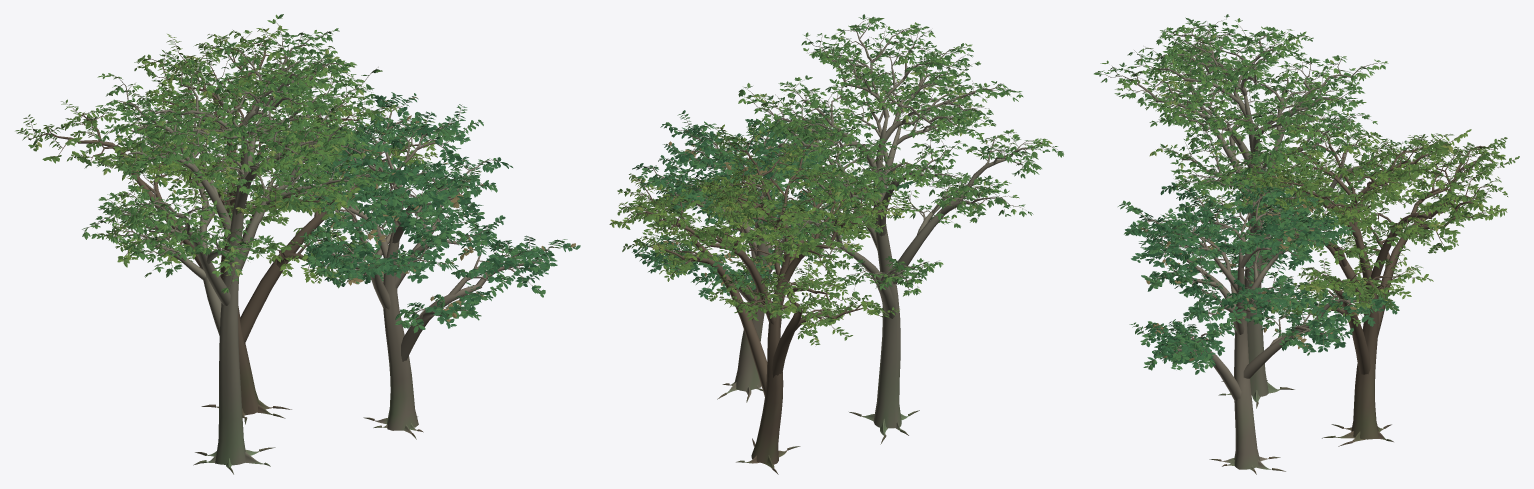
The model's file is trees-taller.glb.
3 renders of one model, left to right at view 1: azimuth 30°, elevation 25°; view 2: azimuth 150°, elevation 25°; view 3: azimuth 270°, elevation 25°, orthographic. The views are drawn at different scales.
Visible parts, largest first — view 1: 01 | Upright canopy, 02 | Rounded canopy, 03 | Spreading canopy; view 2: 01 | Upright canopy, 03 | Spreading canopy, 02 | Rounded canopy; view 3: 02 | Rounded canopy, 01 | Upright canopy, 03 | Spreading canopy.
Boxes of the visible parts, box(x1,y1,x2,y2) form: 01 | Upright canopy: box(82, 14, 394, 474); 02 | Rounded canopy: box(276, 92, 580, 439); 03 | Spreading canopy: box(15, 25, 455, 424); 01 | Upright canopy: box(738, 14, 1063, 444); 03 | Spreading canopy: box(609, 124, 912, 474); 02 | Rounded canopy: box(632, 109, 914, 402); 02 | Rounded canopy: box(1118, 166, 1399, 474); 01 | Upright canopy: box(1094, 14, 1431, 408); 03 | Spreading canopy: box(1199, 112, 1519, 446).
Size of the model in its own units: 27.97 by 25.59 by 25.75.
